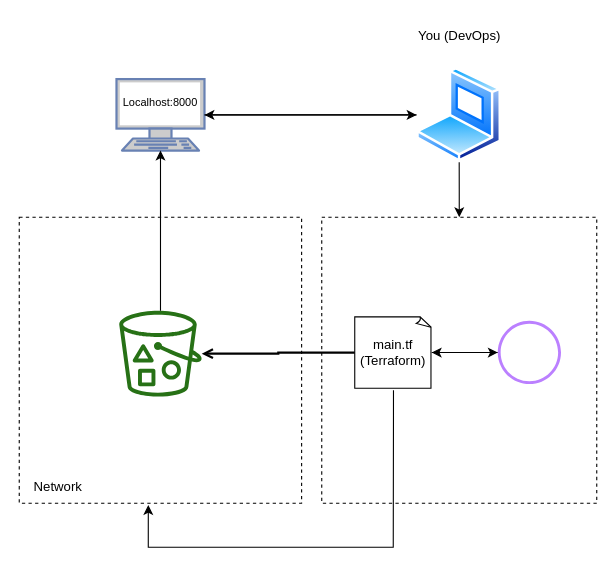
Image size: 616x575. Some labels were removed from this diagram. Here are the shapes that lost their labels. From the top down, the centre of each, then its label:
At (160,353): "Container".
At (529,352): "Local files for static website".
